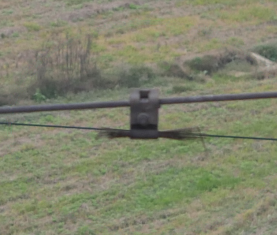damper_defect: (91, 87, 206, 143)
